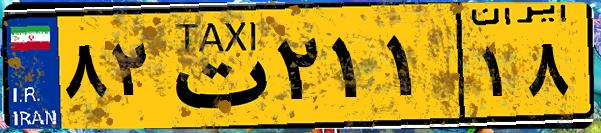1: (385, 28, 445, 110), (330, 28, 385, 110), (475, 38, 525, 113)
2: (270, 28, 330, 110), (110, 28, 158, 98)
8: (57, 26, 110, 100), (525, 38, 570, 115)
ت: (158, 12, 270, 120)
